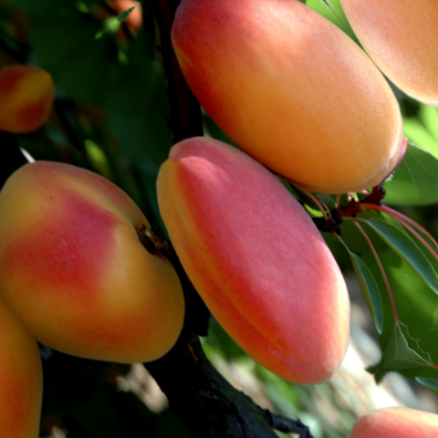mango: (104, 94, 410, 419), (0, 100, 246, 424), (127, 0, 438, 256)
